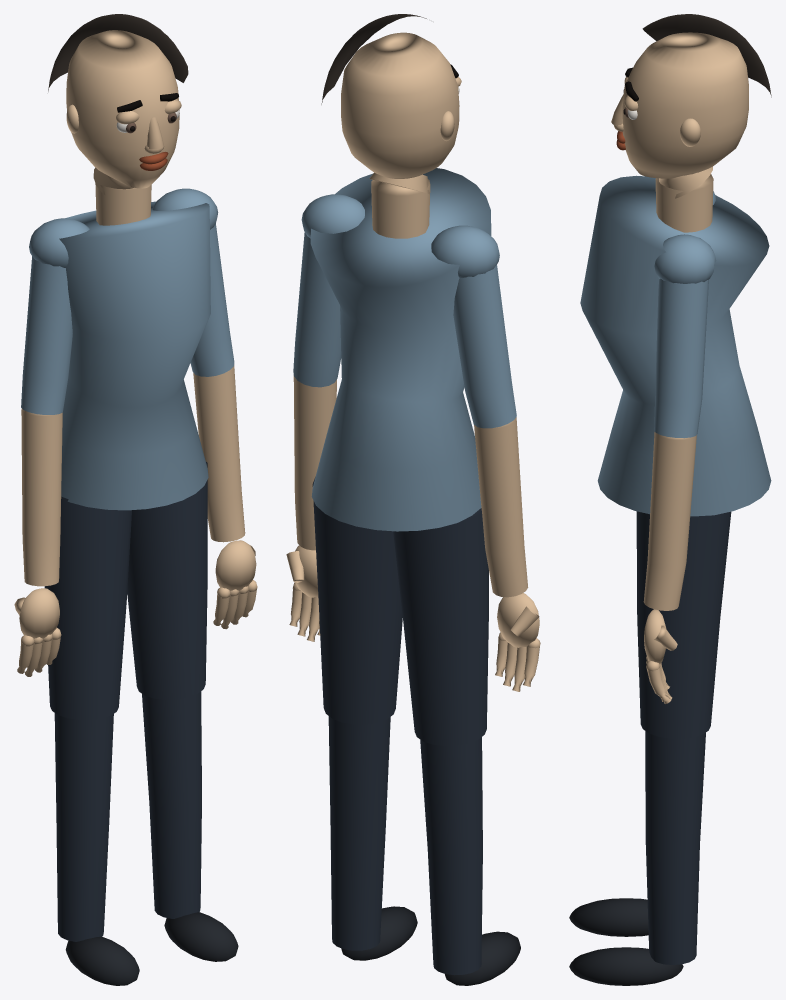
3 renders of one model, left to right at view 1: azimuth 30°, elevation 25°; view 2: azimuth 150°, elevation 25°; view 3: azimuth 270°, elevation 25°, orthographic. The views are drawn at different scales.
Visible parts, largest first — view 1: nabil_fig, nabil_head; view 2: nabil_fig, nabil_head; view 3: nabil_fig, nabil_head.
Part boxes in pixels (x1,y1,x2,y2): nabil_fig: (14, 183, 257, 985); nabil_head: (48, 14, 188, 194); nabil_fig: (286, 168, 540, 985); nabil_head: (321, 14, 461, 194); nabil_fig: (569, 174, 771, 985); nabil_head: (611, 14, 771, 198).
Size of the model in its own units: 0.4854 by 1.78 by 0.3485.
